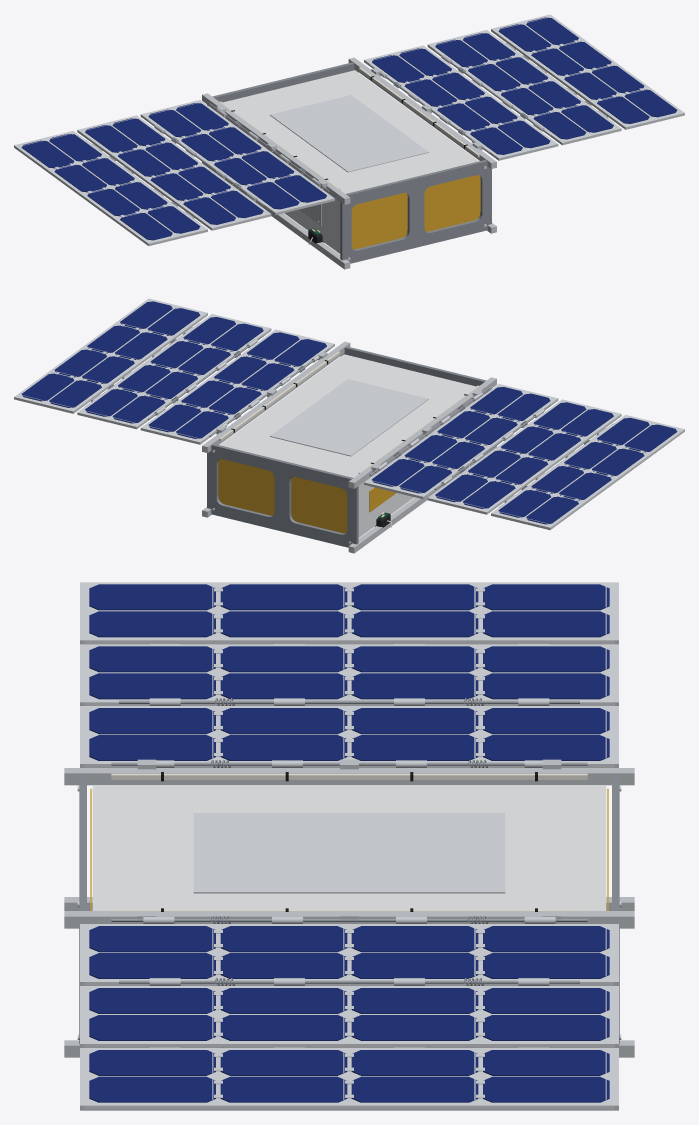
The model's file is solar-1wing.glb.
3 views of the same model, one above another, from view 1: azimuth 30°, elevation 25°; view 2: azimuth 150°, elevation 25°; view 3: azimuth 270°, elevation 25° (orthographic). The views are drawn at different scales.
Visible parts, largest first — view 1: mount-deck-top, mount-bulkhead (×2), left-panel-2-cells, right-panel-1-cells, right-panel-2-cells, left-panel-1-cells, left-panel-3-cells, right-panel-3-cells, mount-radiator, mount-end-mli, mount-hinge-rail (×2), left-panel-2-substrate (+8 smaller); view 2: mount-deck-top, mount-bulkhead (×2), left-panel-1-cells, left-panel-2-cells, right-panel-2-cells, left-panel-3-cells, right-panel-1-cells, right-panel-3-cells, mount-radiator, mount-end-mli, mount-hinge-rail (×2), left-panel-2-substrate (+8 smaller); view 3: mount-deck-top, left-panel-3-cells, left-panel-2-cells, right-panel-3-cells, left-panel-1-cells, right-panel-1-cells, right-panel-2-cells, mount-radiator, mount-hinge-rail (×2), left-panel-3-substrate, right-panel-3-substrate, right-panel-2-substrate (+18 smaller).
Part boxes in pixels (<box>): mount-deck-top: <box>223,70,478,193</box>; mount-bulkhead (×2): <box>207,62,491,263</box>; left-panel-2-cells: <box>85,118,263,224</box>; right-panel-1-cells: <box>372,48,550,154</box>; right-panel-2-cells: <box>435,33,613,139</box>; left-panel-1-cells: <box>148,103,326,209</box>; left-panel-3-cells: <box>21,133,200,240</box>; right-panel-3-cells: <box>498,17,676,123</box>; mount-radiator: <box>270,95,428,172</box>; mount-end-mli: <box>351,175,480,249</box>; mount-hinge-rail (×2): <box>202,57,496,204</box>; left-panel-2-substrate: <box>77,115,270,228</box>; mount-deck-top: <box>220,354,475,477</box>; mount-bulkhead (×2): <box>207,346,491,547</box>; left-panel-1-cells: <box>372,387,550,493</box>; left-panel-2-cells: <box>435,402,613,508</box>; right-panel-2-cells: <box>85,317,263,423</box>; left-panel-3-cells: <box>498,417,677,524</box>; right-panel-1-cells: <box>148,332,326,438</box>; right-panel-3-cells: <box>22,301,200,407</box>; mount-radiator: <box>270,379,428,456</box>; mount-end-mli: <box>218,459,347,533</box>; mount-hinge-rail (×2): <box>202,341,496,488</box>; left-panel-2-substrate: <box>428,399,621,512</box>; mount-deck-top: <box>92,786,606,910</box>; left-panel-3-cells: <box>89,584,609,637</box>; left-panel-2-cells: <box>89,646,609,699</box>; right-panel-3-cells: <box>89,1050,609,1102</box>; left-panel-1-cells: <box>89,708,609,760</box>; right-panel-1-cells: <box>89,926,609,978</box>; right-panel-2-cells: <box>89,988,609,1040</box>; mount-radiator: <box>193,813,505,893</box>; mount-hinge-rail (×2): <box>64,768,634,928</box>; left-panel-3-substrate: <box>80,582,618,643</box>; right-panel-3-substrate: <box>80,1048,618,1109</box>; right-panel-2-substrate: <box>80,986,618,1047</box>.
Bounding box in the file's own units: 0.7952 × 0.103 × 0.366.
